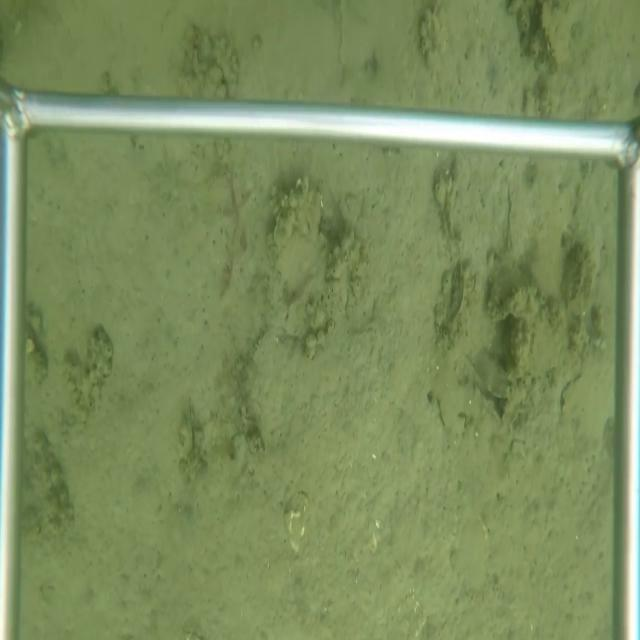Oyster-Closed: (449, 261, 467, 324)
Oyster-Indeterminate: (266, 181, 335, 297)
